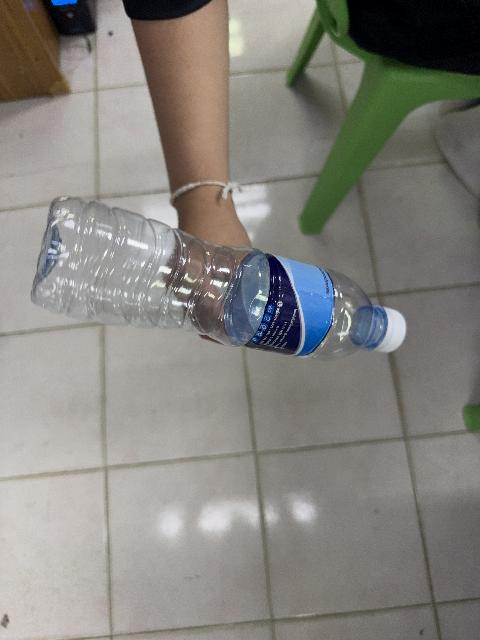bottle: (32, 198, 406, 359)
